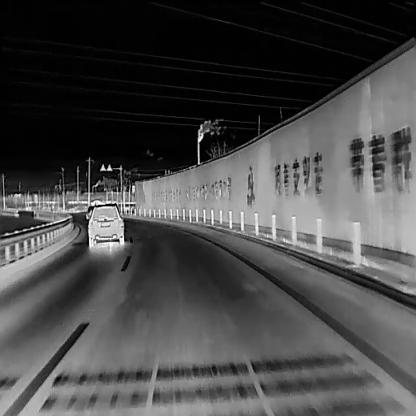car: (84, 200, 123, 249)
